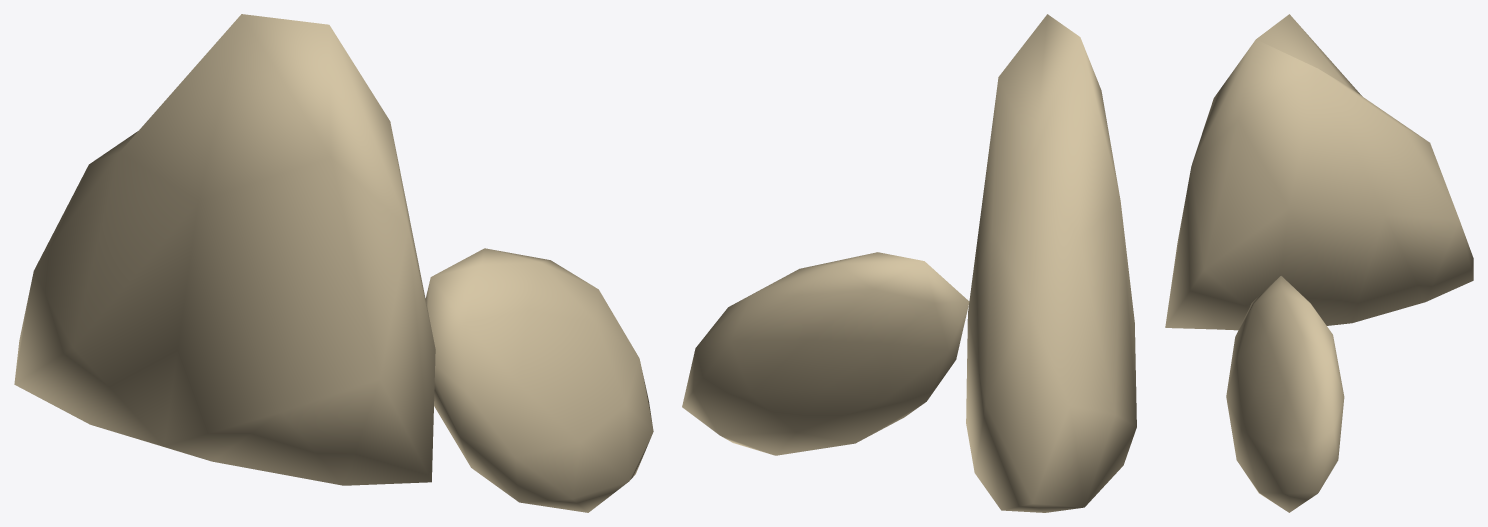
File: v_dune.glb
3 renders of one model, left to right at view 1: azimuth 30°, elevation 25°; view 2: azimuth 150°, elevation 25°; view 3: azimuth 270°, elevation 25°, orthographic. The views are drawn at different scales.
Parts seen in each view (by area): view 1: Dune; view 2: Dune; view 3: Dune.
Part boxes in pixels (x1,y1,x2,y2): Dune: [14, 14, 653, 512]; Dune: [682, 14, 1136, 512]; Dune: [1165, 14, 1473, 512].
Size of what is drawn, in the model's own units: 3.23 by 3.17 by 2.37.
